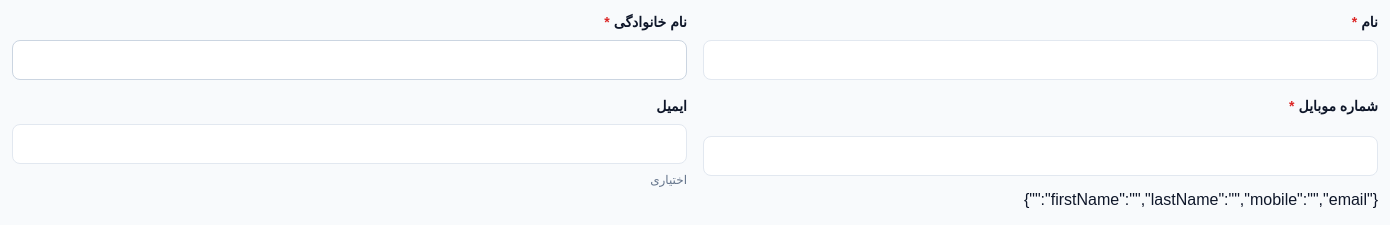
Test: CreateUserFields › normalizes mobile input and exposes numeric input constraints
The width and height of the screenshot is (1390, 225).
Step 1. Type "۰۹۱۲۳۴۵۶۷۸۹" into the field with id "test-user-mobile" → (1040,156), box [703,136,1378,176]
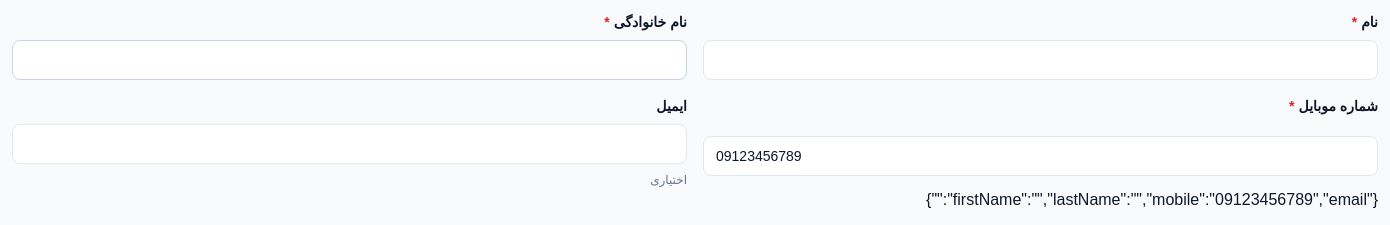
Expected: the field with id "test-user-mobile" holds "09123456789", [703,136,1378,176]
Expected: the text with test id "identity-value" shows "\"mobile\":\"09123456789\"", [926,191,1378,208]
